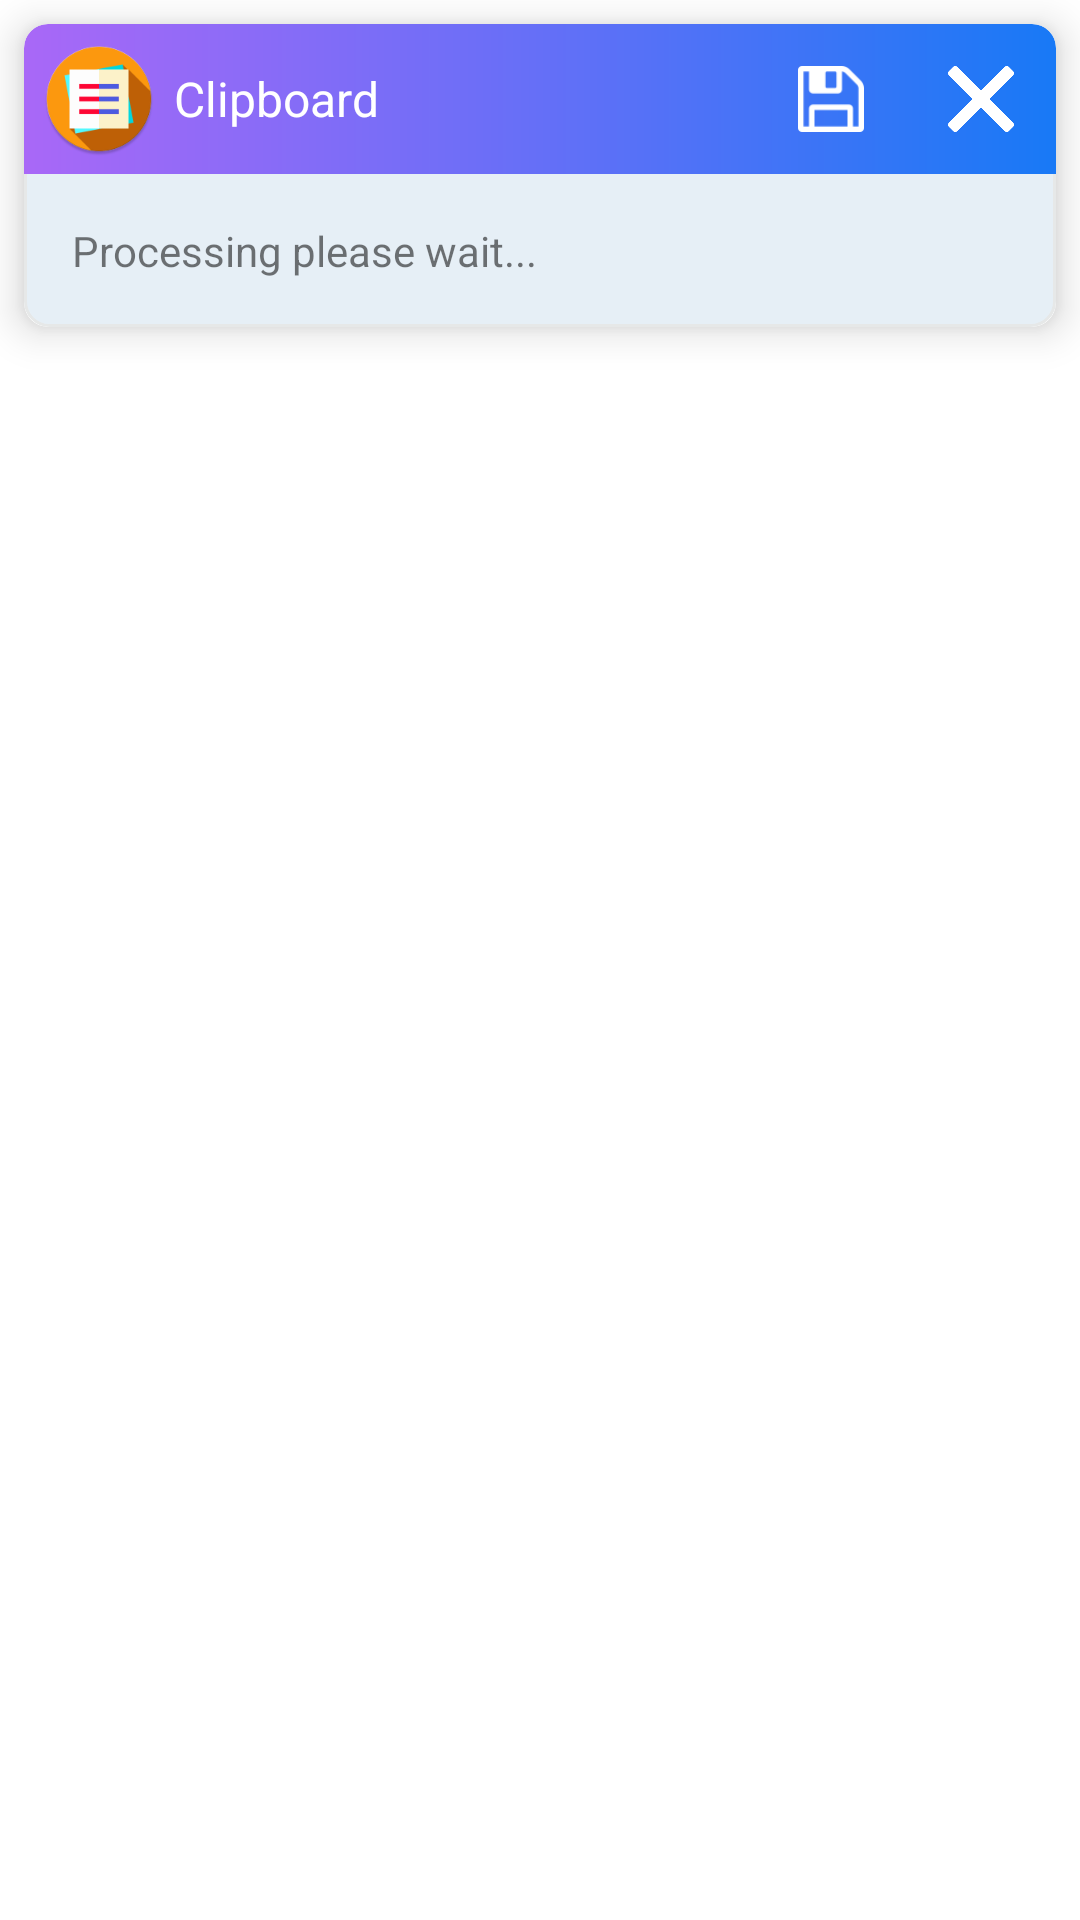

Named icons in this screenshot (1080x1920) and their centers, (x,y):
close: (981,99)
save: (831,99)
